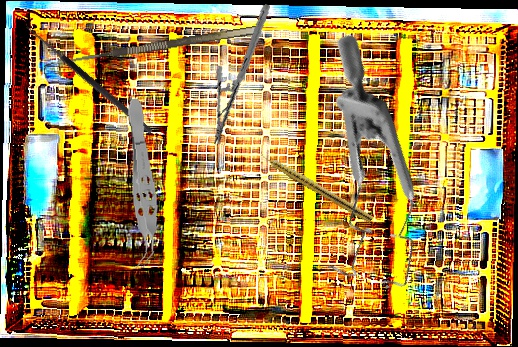Handpiece: (256, 149, 376, 224)
Hook Surgical: (18, 23, 154, 141), (42, 25, 262, 80)
Needle Holder: (193, 3, 290, 146)
Speculum: (220, 29, 499, 318)
Tissue Forceps: (120, 97, 163, 269)
